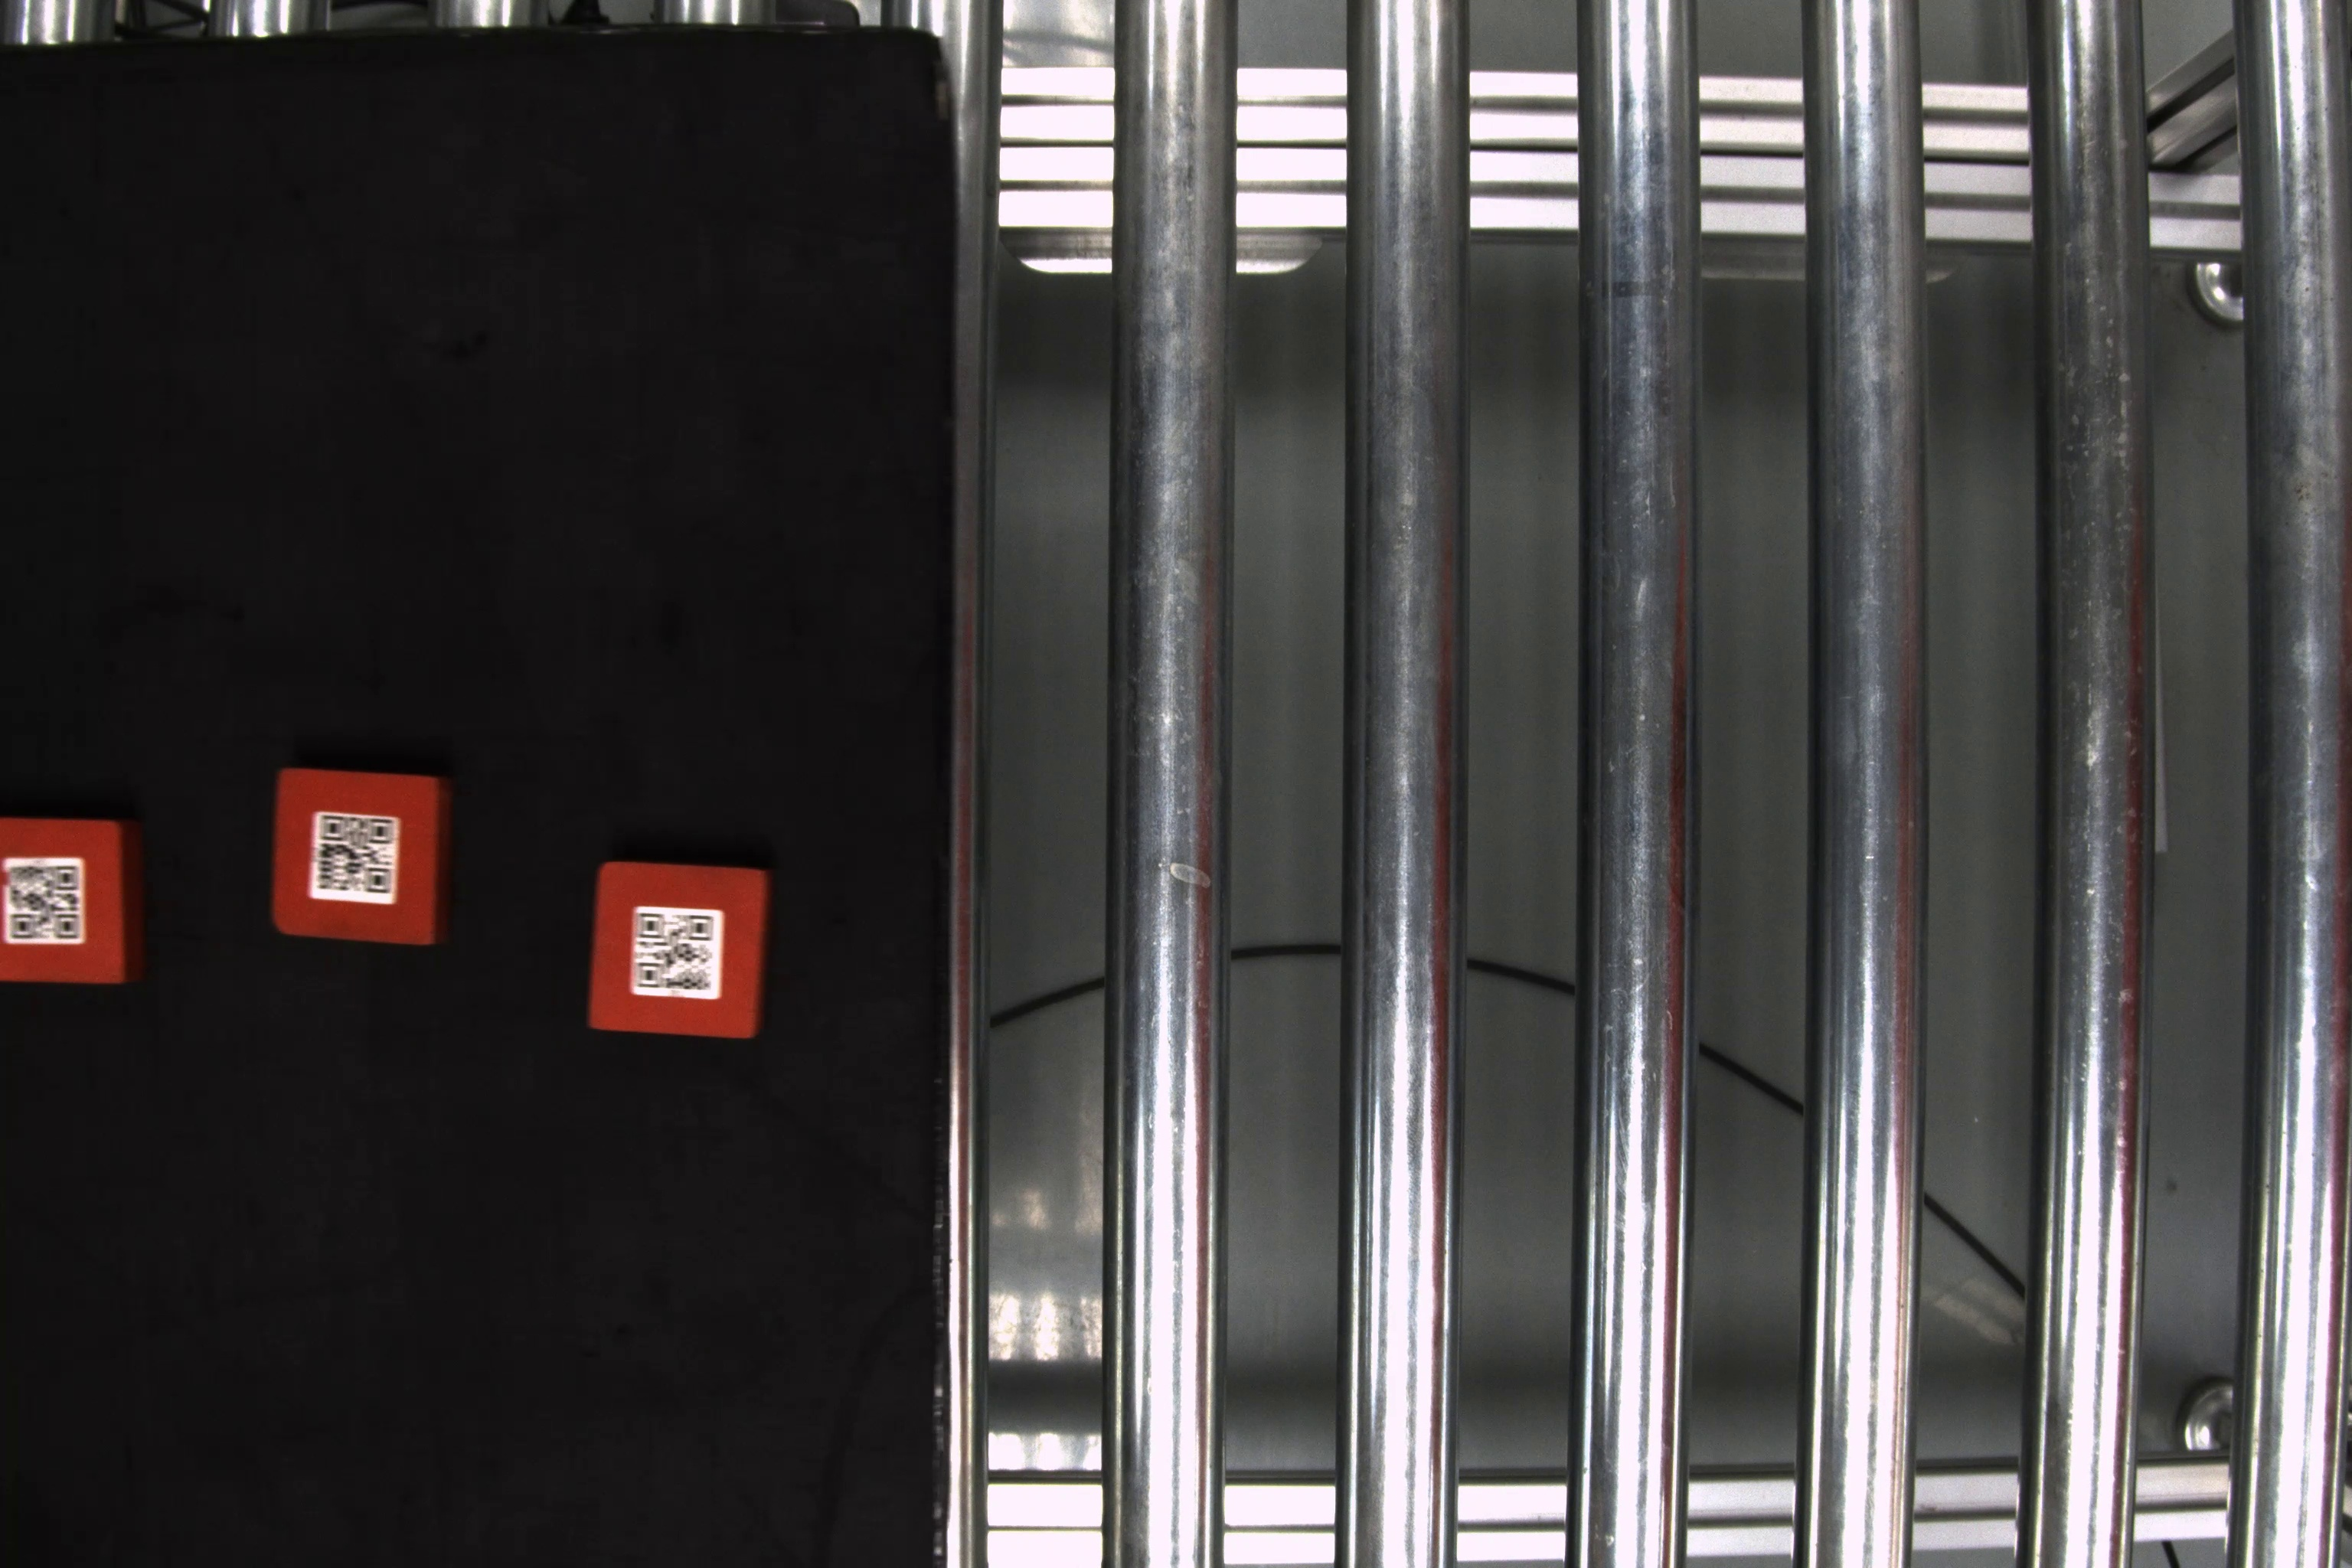wood: (590, 859, 777, 1048), (266, 766, 453, 950), (3, 815, 154, 990)
